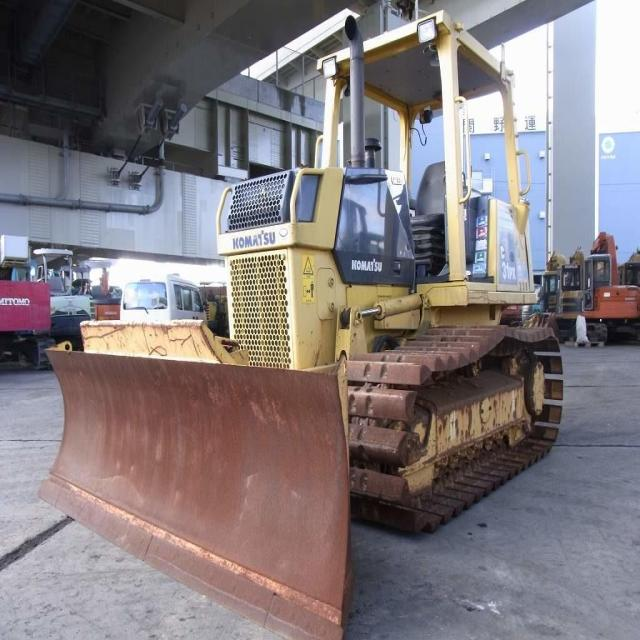buldozerpayloadergrader: (46, 12, 590, 634)
